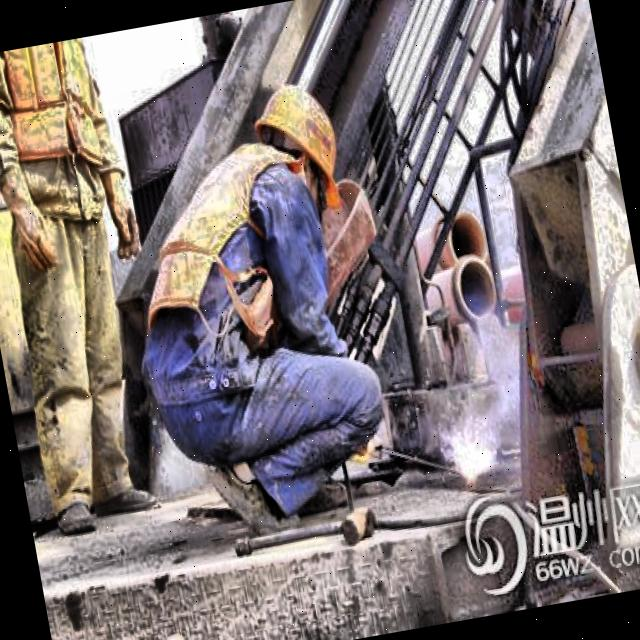helmet: (238, 70, 352, 210)
